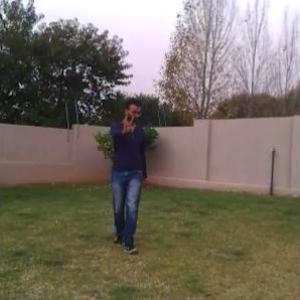takeoff-hand: (115, 109, 136, 139)
